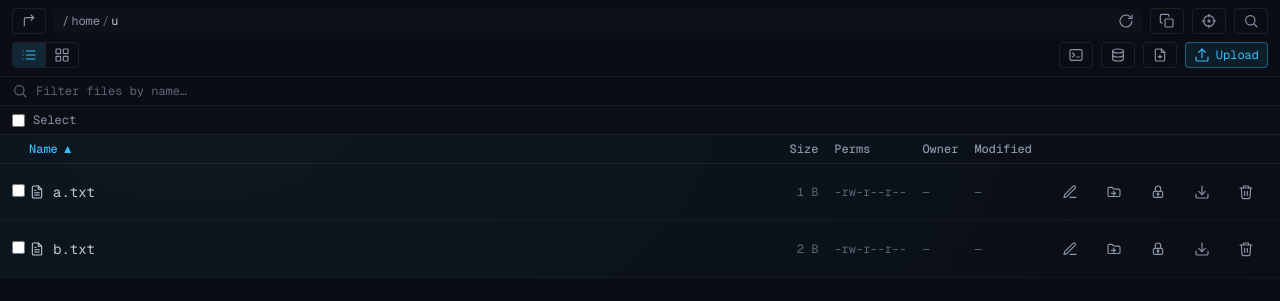
Scenario: FileBrowser selection › select-all checks every visible row
Click the checkbox named "Select all" at (18, 120), box [12,114,25,126]
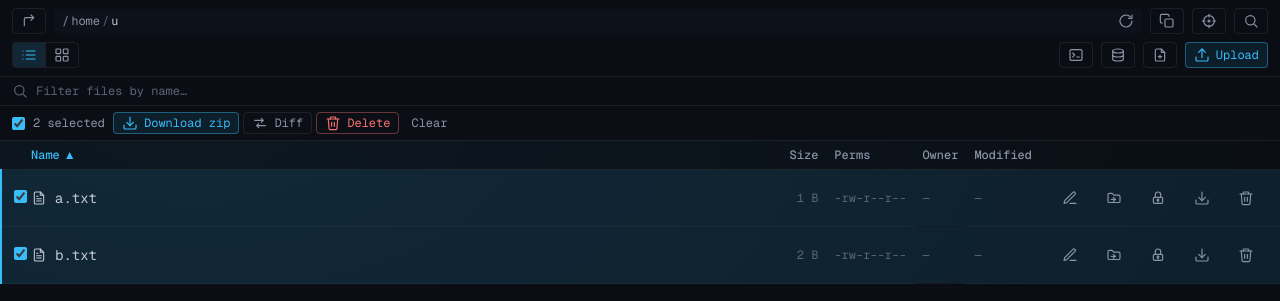
Result: the checkbox named "Select a.txt" is checked at [14,190,27,203]
Result: the checkbox named "Select b.txt" is checked at [14,247,27,260]
